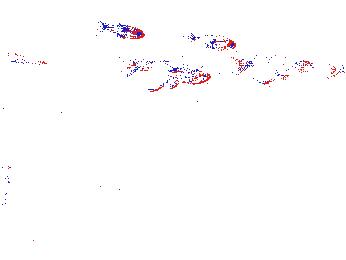X-ray fish: (99, 160, 132, 203)
red belly glassfish: (192, 30, 239, 54), (103, 19, 146, 42)
redtail glassfish: (122, 55, 212, 94), (235, 54, 319, 85)
